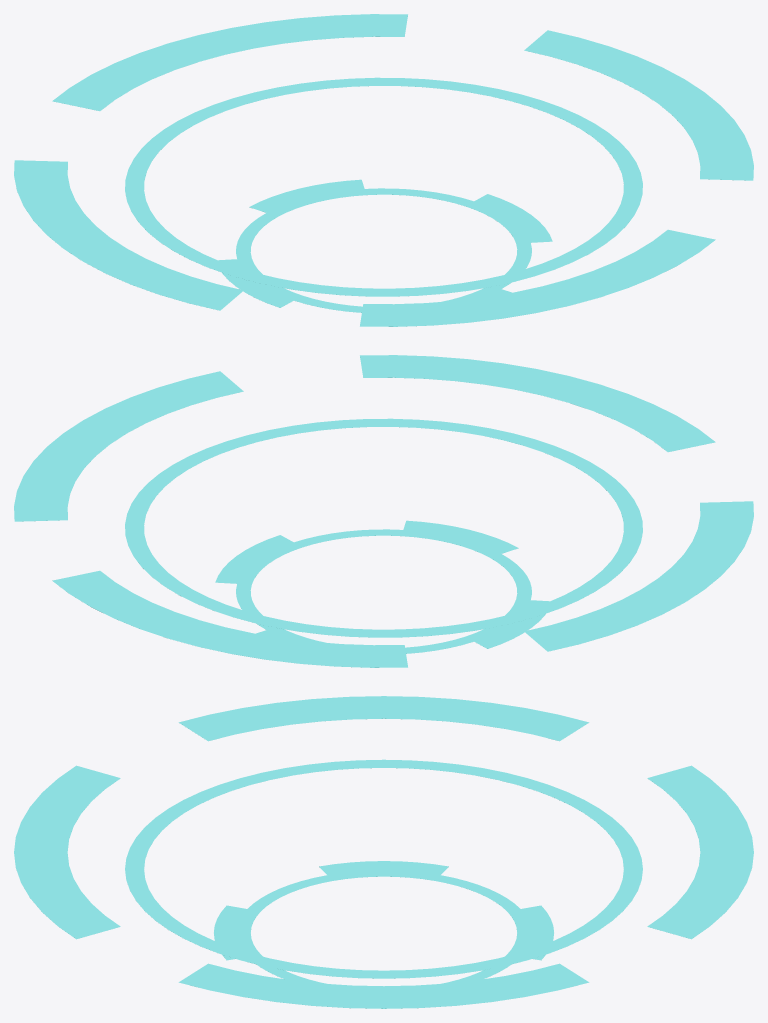
The model's file is Asuna.fbx.
3 views of the same model, one above another, from view 1: azimuth 30°, elevation 25°; view 2: azimuth 150°, elevation 25°; view 3: azimuth 270°, elevation 25° (orthographic).
Visible parts, largest first — view 1: 大, 中, 小; view 2: 大, 中, 小; view 3: 大, 中, 小.
Boxes of the visible parts, x1,y1,x2,y2 form: 大: (14, 14, 753, 326); 中: (125, 77, 642, 296); 小: (218, 179, 552, 312); 大: (14, 355, 753, 667); 中: (125, 418, 642, 637); 小: (215, 520, 549, 653); 大: (14, 696, 753, 1008); 中: (125, 759, 642, 978); 小: (214, 861, 553, 983).
Bounding box in the file's own units: 200 × 24.01 × 200.
